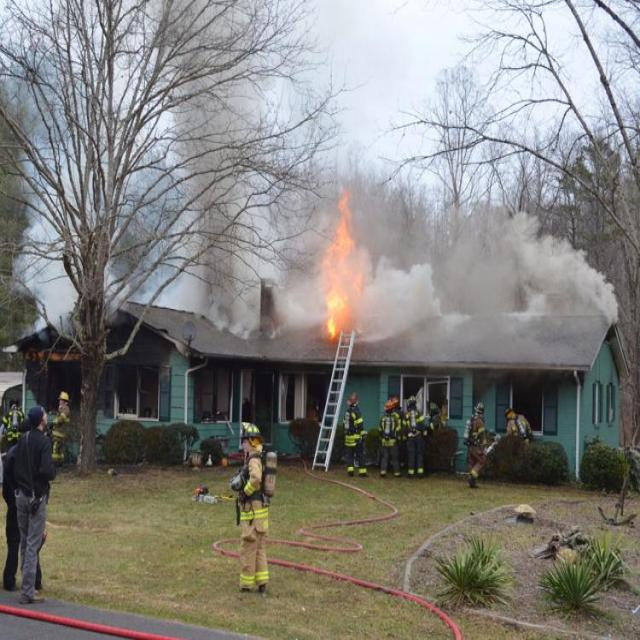fire: (321, 190, 361, 342)
smoke: (371, 221, 614, 336), (191, 191, 306, 333), (32, 183, 72, 316)
